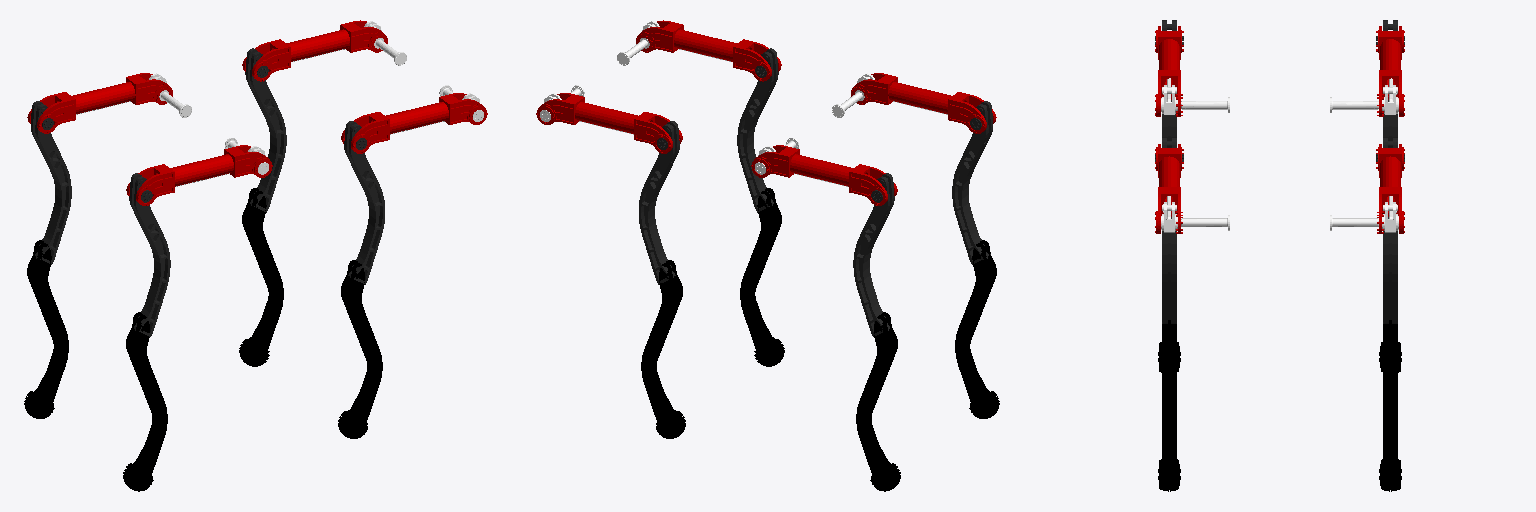
--- Render facts (derived) ---
Views: 3 orthographic renders of the robot side by side, from view 1: azimuth 30°, elevation 25°; view 2: azimuth 150°, elevation 25°; view 3: azimuth 270°, elevation 25°.
Model aidin8 with 25 links and 24 joints (12 revolute, 12 fixed), rooted at body, posed all joints at 0.
Visible links, largest first — view 1: LB_foot, RF_foot, RB_foot, LF_foot, RF_2, RB_2, LF_2, LB_2, RB_3, LB_3, RF_3, LF_3; view 2: LB_foot, LF_foot, RB_foot, RF_foot, LF_2, LB_2, RF_2, RB_2, LB_3, RB_3, LF_3, RF_3; view 3: RF_foot, LF_foot, LB_2, RF_2, LF_2, RB_2, RF_3, LF_3, RF_link1, LF_link1, LB_link1, RB_link1 (+2 smaller).
Boxes of the visible links, <box> form: LB_foot: <box>24,240,68,418</box>; RF_foot: <box>338,260,382,438</box>; RB_foot: <box>123,312,167,491</box>; LF_foot: <box>239,188,283,366</box>; RF_2: <box>341,93,487,153</box>; RB_2: <box>126,145,272,205</box>; LF_2: <box>242,20,387,81</box>; LB_2: <box>27,73,172,133</box>; RB_3: <box>129,173,170,336</box>; LB_3: <box>31,101,71,264</box>; RF_3: <box>344,121,384,284</box>; LF_3: <box>245,48,286,212</box>; LB_foot: <box>856,312,900,491</box>; LF_foot: <box>641,260,685,438</box>; RB_foot: <box>955,240,999,418</box>; RF_foot: <box>740,188,784,366</box>; LF_2: <box>536,93,682,153</box>; LB_2: <box>751,145,897,205</box>; RF_2: <box>636,20,781,81</box>; RB_2: <box>851,73,996,133</box>; LB_3: <box>853,173,894,336</box>; RB_3: <box>952,101,992,264</box>; LF_3: <box>639,121,679,284</box>; RF_3: <box>737,48,778,212</box>; RF_foot: <box>1158,324,1180,491</box>; LF_foot: <box>1379,324,1401,491</box>; LB_2: <box>1376,26,1404,116</box>; RF_2: <box>1155,144,1183,233</box>; LF_2: <box>1376,144,1404,233</box>; RB_2: <box>1155,26,1183,116</box>; RF_3: <box>1155,138,1183,323</box>; LF_3: <box>1376,138,1404,323</box>; RF_link1: <box>1161,202,1229,232</box>; LF_link1: <box>1330,202,1398,232</box>; LB_link1: <box>1330,85,1398,114</box>; RB_link1: <box>1161,85,1229,114</box>.
Bounding box of the posed robot: 1.07 × 0.5794 × 0.9021 m (x, y, z).
Meshes: 12 distinct files referenced, 20 mesh visuals loaded (7 binary STL); not drawn: 5 (reference not matched to a file when rendering).

The robot description file, URDF, robot "aidin8":
<?xml version="1.0" ?>
<robot name="aidin8">
  <material name="black">
    <color rgba="0.0 0.0 0.0 1.0"/>
  </material>
  <material name="blue">
    <color rgba="0.0 0.0 0.8 1.0"/>
  </material>
  <material name="green">
    <color rgba="0.0 0.8 0.0 1.0"/>
  </material>
  <material name="grey">
    <color rgba="0.2 0.2 0.2 1.0"/>
  </material>
  <material name="silver">
    <color rgba="0.913725490196 0.913725490196 0.847058823529 1.0"/>
  </material>
  <material name="orange">
    <color rgba="1.0 0.423529411765 0.0392156862745 1.0"/>
  </material>
  <material name="brown">
    <color rgba="0.870588235294 0.811764705882 0.764705882353 1.0"/>
  </material>
  <material name="red">
    <color rgba="0.8 0.0 0.0 1.0"/>
  </material>
  <material name="yellow">
    <color rgba="0.8 0.8 0.0 1.0"/>
  </material>
  <material name="white">
    <color rgba="1.0 1.0 1.0 1.0"/>
  </material>

<!--////////////////////////////////   Body    ////////////////////////////////-->
  <link name="body">
    <inertial>
      <mass value="12.3188555"/>
      <origin xyz="0.00142 -0.00222 -0.04319" rpy="0 0 0"/>
      <inertia ixx="0.1104557116459" ixy="0.0002742627834" ixz="-0.0007826805716" iyy="0.2925866863396" iyz="-0.0018014327089" izz="0.3259809298915"/>
    </inertial>
    <collision name="body_1">
      <origin xyz="0.4174 0     0" rpy="0 0 0"/>
      <geometry>
        <box size="0.026 0.318 0.207"/>
      </geometry>
    </collision>
    <collision name="body_2">
      <origin xyz="-0.4174  0      0" rpy="0 0 0"/>
      <geometry>
        <box size="0.026 0.318 0.207"/>
      </geometry>
    </collision>
    <collision name="body_3">
      <origin xyz="0    0.119 0.085" rpy="0      1.57079 0"/>
      <geometry>
        <cylinder radius="0.0102" length="0.8848"/>
      </geometry>
    </collision>
    <collision name="body_4">
      <origin xyz="0     0.119 -0.085" rpy="0      1.57079 0"/>
      <geometry>
        <cylinder radius="0.0102" length="0.8848"/>
      </geometry>
    </collision>
    <collision name="body_5">
      <origin xyz="0    -0.119  0.085" rpy="0      1.57079 0"/>
      <geometry>
        <cylinder radius="0.0102" length="0.8848"/>
      </geometry>
    </collision>
    <collision name="body_6">
      <origin xyz="0    -0.119 -0.085" rpy="0      1.57079 0"/>
      <geometry>
        <cylinder radius="0.0102" length="0.8848"/>
      </geometry>
    </collision>
    <collision name="body_7" >
      <origin xyz="0 0 0" rpy="0 0 0"/>
      <geometry>
        <mesh filename="../meshes/meshes_surface/Body_AIDIN8.STL" scale="1 1 1"/>
      </geometry>
    </collision>
    <visual name="body_visual">
      <origin xyz="0 0 0" rpy="0 0 0"/>
      <geometry>
        <mesh filename="../meshes/meshes_surface/Body_AIDIN8.STL" scale="1 1 1"/>
      </geometry>
      <material name="silver"/>
    </visual>
  </link>

<!--//////////////////////////////// RF LINKS /////////////////////////////////-->

  <link name="RF_1">
    <inertial>
      <mass value="6.3549628"/>
      <origin xyz="2.22e-03 -7.00e-05 -3.49e-02" rpy="0 0 0"/>
      <inertia ixx="0.0268838092963" ixy="-0.0000090031909" ixz="0.0010319405579" iyy="0.0388589753376" iyz="0.0000168509340" izz="0.0189992476926"/>
    </inertial>
    <collision name="RF_col1">
      <origin xyz="0      0     -0.0507" rpy="0 0 0"/>
      <geometry>
        <cylinder radius="0.0535" length="0.2334"/>
      </geometry>
    </collision>
    <collision name="RF_col2">
      <origin xyz="0.0083 0     0" rpy="0      1.57079 0"/>
      <geometry>
        <cylinder radius="0.0535" length="0.1984"/>
      </geometry>
    </collision>
    <visual name="RF_1_vis">
      <origin xyz="0 0 0" rpy="0 0 0"/>
      <geometry>
        <mesh filename="../meshes/meshes_surface/Leg_Scapular_RF_stp_v2.STL" scale="1 1 1"/>
      </geometry>
      <material name="black"/>
    </visual>
  </link>

  <link name="RF_2">
    <inertial>
      <mass value="0.8592967"/>
      <origin xyz="1.75316e-01 -1.49727e-02 1.2510e-04" rpy="0 0 0"/>
      <inertia ixx="0.0007326198866" ixy="0.0000038940144" ixz="-0.0000188175364" iyy="0.0157450190455" iyz="0.0000015777233" izz="0.0157308802469"/>
    </inertial>
    <collision name="RF_col3">
      <origin xyz="0 0 0" rpy="0 0 0"/>
      <geometry>
        <cylinder radius="0.027" length="0.054"/>
      </geometry>
    </collision>
    <collision name="RF_col4">
      <origin xyz="0.055 -0.021  0" rpy="0 0 0"/>
      <geometry>
        <box size="0.06 0.06 0.054"/>
      </geometry>
    </collision>
    <collision name="RF_col5">
      <origin xyz="0.175 -0.021  0" rpy="0      1.57079 0"/>
      <geometry>
        <cylinder radius="0.025" length="0.18"/>
      </geometry>
    </collision>
    <collision name="RF_col6">
      <origin xyz="0.295 -0.021  0" rpy="0 0 0"/>
      <geometry>
        <box size="0.06 0.06 0.054"/>
      </geometry>
    </collision>
    <collision name="RF_col7">
      <origin xyz="0.35   0     0.0245" rpy="0 0 0"/>
      <geometry>
        <cylinder radius="0.027" length="0.011"/>
      </geometry>
    </collision>
    <collision name="RF_col8">
      <origin xyz="0.35    0     -0.0245" rpy="0 0 0"/>
      <geometry>
        <cylinder radius="0.027" length="0.011"/>
      </geometry>
    </collision>
    <visual name="RF_2_vis">
      <origin xyz="0 0 0" rpy="0 0 0"/>
      <geometry>
        <mesh filename="../meshes/meshes_surface/Leg_Hip_right_stp.STL" scale="1 1 1"/>
      </geometry>
      <material name="red"/>
    </visual>
  </link>

  <link name="RF_3">
    <inertial>
      <mass value="1.0898094"/>
      <origin xyz="0.1800139 0.0211379 0" rpy="0 0 0"/>
      <inertia ixx="0.0011170724779" ixy="0.0013927896194" ixz="-0.0000000006471" iyy="0.028702148538" iyz="-0.0000000000318" izz="0.0294755353979"/>
    </inertial>
    <collision name="RF_col9">
      <origin rpy="0       0       0.41887" xyz="0.10075  0.02555  0"/>
      <geometry>
        <box size="0.17 0.035 0.036"/>
      </geometry>
    </collision>
    <collision name="RF_col10">
      <origin rpy="0       0       0.05925" xyz="0.21091  0.0609   0"/>
      <geometry>
        <box size="0.0771692 0.035 0.036"/>
      </geometry>
    </collision>
    <collision name="RF_col11">
      <origin rpy="0       0      -0.34906" xyz="0.32234  0.03518  0"/>
      <geometry>
        <box size="0.17 0.035 0.036"/>
      </geometry>
    </collision>
<!--    <collision name="RF_col9">-->
<!--      <origin rpy="0  0  0" xyz="0  0  0"/>-->
<!--      <geometry>-->
<!--        <mesh filename="../meshes/meshes_surface/Leg_Knee_stp.STL" scale="1 1 1"/>-->
<!--      </geometry>-->
<!--    </collision>-->
    <visual name="RF_3_vis">
      <origin xyz="0 0 0" rpy="0 0 0"/>
      <geometry>
        <mesh filename="../meshes/meshes_surface/Leg_Knee_stp.STL" scale="1 1 1"/>
      </geometry>
      <material name="grey"/>
    </visual>
  </link>

  <link name="RF_link1">
    <inertial>
      <mass value="0.356529"/>
      <origin xyz="0.00726 -0.00049 -0.03152" rpy="0 0 0"/>
      <inertia ixx="0.0009737671712" ixy="0.0000021895727" ixz="0.0000821138402" iyy="0.0010410742162" iyz="-0.0000057093198" izz="0.0001183464867"/>
    </inertial>
    <visual name="RF_link1_vis">
      <origin xyz="0 0 0" rpy="0 0 0"/>
      <geometry>
        <mesh filename="../meshes/meshes_surface/Knee_link1_right_stp.STL" scale="1 1 1"/>
      </geometry>
      <material name="white"/>
    </visual>
  </link>

  <link name="RF_link2">
    <inertial>
      <mass value="0.20931"/>
      <origin xyz="0.175 0    0" rpy="0 0 0"/>
      <inertia ixx="0.00000747991" ixy="0" ixz="0" iyy="0.00238918720" iyz="0" izz="0.00239407889"/>
    </inertial>
    <visual name="RF_link2_vis">
      <origin xyz="0    0    0" rpy="0    0    0"/>
      <geometry>
        <mesh filename="../meshes/meshes_surface/Knee_link2_stp.STL" scale="1 1 1"/>
      </geometry>
      <material name="white"/>
    </visual>
  </link>

  <link name="RF_foot">
    <inertial>
      <mass value="0.01415138"/>
      <inertia ixx="0.0000730244206" ixy="0.0000118580755" ixz="-0.000000000074" iyy="0.000072839443" iyz="-0.0000000000768" izz="0.0000859159859"/>
    </inertial>
    <collision name="RF_col12">
      <origin rpy="0  0  0" xyz="0  0   0"/>
      <geometry>
        <sphere radius="0.025" />
      </geometry>
<!--      <geometry>-->
<!--        <mesh filename="../meshes/meshes_surface/leg_foot.STL" scale="1 1 1"/>-->
<!--      </geometry>-->
    </collision>
    <visual name="RF_foot_vis">
      <origin rpy="0  0  0" xyz="0  0   0"/>
      <geometry>
        <mesh filename="../meshes/meshes_surface/leg_foot.STL" scale="1 1 1"/>
      </geometry>
      <material name="black"/>
    </visual>
  </link>

<!--//////////////////////////////// RF JOINTS ////////////////////////////////-->

  <joint name="RFJ1" type="revolute">
    <parent link="body"/>
    <child link="RF_1"/>
    <origin xyz="0.3224 -0.119   0" rpy="-1.57079  0      -1.57079"/>
    <axis xyz="0 0 1"/>
<!--    <limit lower="-0.6981317008" upper="0.6981317008" effort="200.0" velocity="15.5"/>-->
    <limit lower="-0.3" upper="0.3" effort="200.0" velocity="15.5"/>
  </joint>

  <joint name="RFJ2" type="revolute">
    <parent link="RF_1"/>
    <child link="RF_2"/>
    <origin xyz="0.13769 0      0" rpy="-1.58259  1.57079 -1.58259"/>
    <axis xyz="0 0 1"/>
    <limit lower="-3.1" upper="3.1" effort="200.0" velocity="15.5"/>
  </joint>

  <joint name="RFJ3" type="revolute">
    <parent link="RF_2"/>
    <child link="RF_3"/>
    <origin xyz="0.35 0   0" rpy="0      0      1.57079"/>
    <axis xyz="0 0 1"/>
<!--    <limit lower="-1.047197551" upper="1.570796327" effort="200.0" velocity="15.5"/>-->
    <limit lower="-1.04" upper="1.1" effort="200.0" velocity="15.5"/>
  </joint>

  <joint name="RFJ_link1" type="fixed"> <!--revolute -> fixed-->
    <parent link="RF_1"/>
    <child link="RF_link1"/>
    <origin xyz="0.13769 0      0" rpy="-1.57079  0.17453 -1.57079"/>
    <axis xyz="0 0 1"/>
  </joint>

  <joint name="RFJ_link2" type="fixed"> <!--revolute -> fixed-->
    <parent link="RF_2"/>
    <child link="RF_link2"/>
    <origin xyz="0    0    0" rpy="0    0    0"/>
    <axis xyz="0 0 1"/>
  </joint>

  <joint name="RFJ_foot" type="fixed" dont_collapse="true"> <!--revolute -> fixed-->
    <parent link="RF_3"/>
    <child link="RF_foot"/>
    <origin rpy="0 0 0" xyz="0.4 0 0"/>
    <axis xyz="0 0 1"/>
  </joint>

<!--//////////////////////////////// LF LINKS /////////////////////////////////-->

  <link name="LF_1">
    <inertial>
      <mass value="6.3549628"/>
      <origin xyz="0.00223 -0.00011 -0.03491" rpy="0 0 0"/>
      <inertia ixx="0.0268822823205" ixy="0.0000315138420" ixz="-0.0010398645982" iyy="0.0388571979436" iyz="-0.0000013704590" izz="0.01899889911081"/>
    </inertial>
    <collision name="LF_col1">
      <origin xyz="0      0     -0.0507" rpy="0 0 0"/>
      <geometry>
        <cylinder radius="0.0535" length="0.2334"/>
      </geometry>
    </collision>
    <collision name="LF_col2">
      <origin xyz="0.0083 0     0" rpy="0      1.57079 0"/>
      <geometry>
        <cylinder radius="0.0535" length="0.1984"/>
      </geometry>
    </collision>
    <visual name="LF_1_vis">
      <origin xyz="0 0 0" rpy="0 0 0"/>
      <geometry>
        <mesh filename="../meshes/meshes_surface/Leg_Scapular_LF_stp_v2.STL" scale="1 1 1"/>
      </geometry>
      <material name="black"/>
    </visual>
  </link>

  <link name="LF_2">
    <inertial>
      <mass value="0.8592967"/>
      <origin xyz="1.75316e-01 -1.49727e-02 -1.2510e-04" rpy="0 0 0"/>
      <inertia ixx="0.0007326198857" ixy="0.0000038940144" ixz="0.0000188178556" iyy="0.0157450190446" iyz="-0.0000015777889" izz="0.0157308802467"/>
    </inertial>
    <collision name="LF_col3">
      <origin xyz="0 0 0" rpy="0 0 0"/>
      <geometry>
        <cylinder radius="0.027" length="0.054"/>
      </geometry>
    </collision>
    <collision name="LF_col4">
      <origin xyz="0.055 -0.021  0" rpy="0 0 0"/>
      <geometry>
        <box size="0.06 0.06 0.054"/>
      </geometry>
    </collision>
    <collision name="LF_col5">
      <origin xyz="0.175 -0.021  0" rpy="0      1.57079 0"/>
      <geometry>
        <cylinder radius="0.025" length="0.18"/>
      </geometry>
    </collision>
    <collision name="LF_col6">
      <origin xyz="0.295 -0.021  0" rpy="0 0 0"/>
      <geometry>
        <box size="0.06 0.06 0.054"/>
      </geometry>
    </collision>
    <collision name="LF_col7">
      <origin xyz="0.35   0     0.0245" rpy="0 0 0"/>
      <geometry>
        <cylinder radius="0.027" length="0.011"/>
      </geometry>
    </collision>
    <collision name="LF_col8">
      <origin xyz="0.35    0     -0.0245" rpy="0 0 0"/>
      <geometry>
        <cylinder radius="0.027" length="0.011"/>
      </geometry>
    </collision>
    <visual name="LF_2_vis">
      <origin xyz="0 0 0" rpy="0 0 0"/>
      <geometry>
        <mesh filename="../meshes/meshes_surface/Leg_Hip_left_stp.STL" scale="1 1 1"/>
      </geometry>
      <material name="red"/>
    </visual>
  </link>

  <link name="LF_3">
    <inertial>
      <mass value="1.0898094"/>
      <origin xyz="0.1800139 0.0211379 0" rpy="0 0 0"/>
      <inertia ixx="0.0011170724779" ixy="0.0013927896194" ixz="-0.0000000006471" iyy="0.028702148538" iyz="-0.0000000000318" izz="0.0294755353979"/>
    </inertial>
    <collision name="LF_col9">
      <origin rpy="0       0       0.41887" xyz="0.10075  0.02555  0"/>
      <geometry>
        <box size="0.17 0.035 0.036"/>
      </geometry>
    </collision>
    <collision name="LF_col10">
      <origin rpy="0       0       0.05925" xyz="0.21091  0.0609   0"/>
      <geometry>
        <box size="0.0771692 0.035 0.036"/>
      </geometry>
    </collision>
    <collision name="LF_col11">
      <origin rpy="0       0      -0.34906" xyz="0.32234  0.03518  0"/>
      <geometry>
        <box size="0.17 0.035 0.036"/>
      </geometry>
    </collision>
<!--    <collision name="LF_col9">-->
<!--      <origin rpy="0  0  0" xyz="0  0  0"/>-->
<!--      <geometry>-->
<!--        <mesh filename="../meshes/meshes_surface/Leg_Knee_stp.STL" scale="1 1 1"/>-->
<!--      </geometry>-->
<!--    </collision>-->
    <visual name="LF_3_vis">
      <origin xyz="0 0 0" rpy="0 0 0"/>
      <geometry>
        <mesh filename="../meshes/meshes_surface/Leg_Knee_stp.STL" scale="1 1 1"/>
      </geometry>
      <material name="grey"/>
    </visual>
  </link>

  <link name="LF_link1">
    <inertial>
      <mass value="0.356529"/>
      <origin xyz="0.00728 -0.00049  0.03154" rpy="0 0 0"/>
      <inertia ixx="0.0009733125313" ixy="0.0000022519068" ixz="-0.0000814612402" iyy="0.0010405526310" iyz="0.0000057129200" izz="0.0001182849391"/>
    </inertial>
    <visual name="LF_link1_vis">
      <origin xyz="0 0 0" rpy="0 0 0"/>
      <geometry>
        <mesh filename="../meshes/meshes_surface/Knee_link1_left_stp.STL" scale="1 1 1"/>
      </geometry>
      <material name="white"/>
    </visual>
  </link>

  <link name="LF_link2">
    <inertial>
      <mass value="0.20931"/>
      <origin xyz="0.175 0    0" rpy="0 0 0"/>
      <inertia ixx="0.00000747991" ixy="0" ixz="0" iyy="0.00238918720" iyz="0" izz="0.00239407889"/>
    </inertial>
    <visual name="LF_link2_vis">
      <origin xyz="0    0    0" rpy="0    0    0"/>
      <geometry>
        <mesh filename="../meshes/meshes_surface/Knee_link2_stp.STL" scale="1 1 1"/>
      </geometry>
      <material name="white"/>
    </visual>
  </link>

  <link name="LF_foot">
    <inertial>
      <mass value="0.01415138"/>
      <inertia ixx="0.0000730244206" ixy="0.0000118580755" ixz="-0.000000000074" iyy="0.000072839443" iyz="-0.0000000000768" izz="0.0000859159859"/>
    </inertial>
    <collision name="LF_col12">
      <origin rpy="0  0  0" xyz="0  0   0"/>
      <geometry>
        <sphere radius="0.025" />
      </geometry>
<!--      <geometry>-->
<!--        <mesh filename="../meshes/meshes_surface/leg_foot.STL" scale="1 1 1"/>-->
<!--      </geometry>-->
    </collision>
    <visual name="LF_foot_vis">
      <origin rpy="0  0  0" xyz="0  0   0"/>
      <geometry>
        <mesh filename="../meshes/meshes_surface/leg_foot.STL" scale="1 1 1"/>
      </geometry>
      <material name="black"/>
    </visual>
  </link>

<!--//////////////////////////////// LF JOINTS ////////////////////////////////-->

  <joint name="LFJ1" type="revolute">
    <parent link="body"/>
    <child link="LF_1"/>
    <origin xyz="0.3224 0.119  0" rpy="1.57079 0      1.57079"/>
    <axis xyz="0 0 1"/>
    <limit lower="-0.3" upper="0.3" effort="200.0" velocity="15.5"/>
<!--    <limit lower="-0.6981317008" upper="0.6981317008" effort="200.0" velocity="15.5"/>-->
  </joint>

  <joint name="LFJ2" type="revolute">
    <parent link="LF_1"/>
    <child link="LF_2"/>
    <origin xyz="0.13769 0      0" rpy="-1.559    1.57079  1.58259"/>
    <axis xyz="0 0 1"/>
    <limit lower="-3.1" upper="3.1" effort="200.0" velocity="15.5"/>
  </joint>

  <joint name="LFJ3" type="revolute">
    <parent link="LF_2"/>
    <child link="LF_3"/>
    <origin xyz="0.35 0   0" rpy="0      0      1.57079"/>
    <axis xyz="0 0 1"/>
<!--    <limit lower="-1.047197551" upper="1.570796327" effort="200.0" velocity="15.5"/>-->
    <limit lower="-1.04" upper="1.1" effort="200.0" velocity="15.5"/>
  </joint>

  <joint name="LFJ_link1" type="fixed"> <!--revolute -> fixed-->
    <parent link="LF_1"/>
    <child link="LF_link1"/>
    <origin xyz="0.13769 0      0" rpy="-1.57079  0.17453  1.57079"/>
    <axis xyz="0 0 1"/>
  </joint>

  <joint name="LFJ_link2" type="fixed"> <!--revolute -> fixed-->
    <parent link="LF_2"/>
    <child link="LF_link2"/>
    <origin xyz="0    0    0" rpy="0    0    0"/>
    <axis xyz="0 0 1"/>
  </joint>

  <joint name="LFJ_foot" type="fixed" dont_collapse="true"> <!--revolute -> fixed-->
    <origin rpy="0 0 0" xyz="0.4 0 0"/>
    <parent link="LF_3"/>
    <child link="LF_foot"/>
  </joint>

<!--//////////////////////////////// LB LINKS /////////////////////////////////-->

  <link name="LB_1">
    <inertial>
      <mass value="6.3549628"/>
      <origin xyz="2.22e-03 -7.00e-05  3.49e-02" rpy="0 0 0"/>
      <inertia ixx="0.0268838092963" ixy="0.0000090031909" ixz="-0.0010319405579" iyy="0.0388589753376" iyz="0.0000168509340" izz="0.0189992476926"/>
    </inertial>
    <collision name="LB_col1">
      <origin xyz="0     0     0.0507" rpy="0 0 0"/>
      <geometry>
        <cylinder radius="0.0535" length="0.2334"/>
      </geometry>
    </collision>
    <collision name="LB_col2">
      <origin xyz="0.0083 0     0" rpy="0      1.57079 0"/>
      <geometry>
        <cylinder radius="0.0535" length="0.1984"/>
      </geometry>
    </collision>
    <visual name="LB_1_vis">
      <origin xyz="0 0 0" rpy="0 0 0"/>
      <geometry>
        <mesh filename="../meshes/meshes_surface/Leg_Scapular_LR_stp_v2.STL" scale="1 1 1"/>
      </geometry>
      <material name="black"/>
    </visual>
  </link>

  <link name="LB_2">
    <inertial>
      <mass value="0.8592967"/>
      <origin xyz="1.75316e-01 -1.49727e-02 -1.2510e-04" rpy="0 0 0"/>
      <inertia ixx="0.0007326198857" ixy="0.0000038940144" ixz="0.0000188178556" iyy="0.0157450190446" iyz="-0.0000015777889" izz="0.0157308802467"/>
    </inertial>
    <collision name="LB_col3">
      <origin xyz="0 0 0" rpy="0 0 0"/>
      <geometry>
        <cylinder radius="0.027" length="0.054"/>
      </geometry>
    </collision>
    <collision name="LB_col4">
      <origin xyz="0.055 -0.021  0" rpy="0 0 0"/>
      <geometry>
        <box size="0.06 0.06 0.054"/>
      </geometry>
    </collision>
    <collision name="LB_col5">
      <origin xyz="0.175 -0.021  0" rpy="0      1.57079 0"/>
      <geometry>
        <cylinder radius="0.025" length="0.18"/>
      </geometry>
    </collision>
    <collision name="LB_col6">
      <origin xyz="0.295 -0.021  0" rpy="0 0 0"/>
      <geometry>
        <box size="0.06 0.06 0.054"/>
      </geometry>
    </collision>
    <collision name="LB_col7">
      <origin xyz="0.35   0     0.0245" rpy="0 0 0"/>
      <geometry>
        <cylinder radius="0.027" length="0.011"/>
      </geometry>
    </collision>
    <collision name="LB_col8">
      <origin xyz="0.35    0     -0.0245" rpy="0 0 0"/>
      <geometry>
        <cylinder radius="0.027" length="0.011"/>
      </geometry>
    </collision>
    <visual name="LB_2_vis">
      <origin xyz="0 0 0" rpy="0 0 0"/>
      <geometry>
        <mesh filename="../meshes/meshes_surface/Leg_Hip_left_stp.STL" scale="1 1 1"/>
      </geometry>
      <material name="red"/>
    </visual>
  </link>

  <link name="LB_3">
    <inertial>
      <mass value="1.0898094"/>
      <origin xyz="0.1800139 0.0211379 0" rpy="0 0 0"/>
      <inertia ixx="0.0011170724779" ixy="0.0013927896194" ixz="-0.0000000006471" iyy="0.028702148538" iyz="-0.0000000000318" izz="0.0294755353979"/>
    </inertial>
    <collision name="RB_col9">
      <origin rpy="0       0       0.41887" xyz="0.10075  0.02555  0"/>
      <geometry>
        <box size="0.17 0.035 0.036"/>
      </geometry>
    </collision>
    <collision name="RB_col10">
      <origin rpy="0       0       0.05925" xyz="0.21091  0.0609   0"/>
      <geometry>
        <box size="0.0771692 0.035 0.036"/>
      </geometry>
    </collision>
    <collision name="RB_col11">
      <origin rpy="0       0      -0.34906" xyz="0.32234  0.03518  0"/>
      <geometry>
        <box size="0.17 0.035 0.036"/>
      </geometry>
    </collision>
<!--    <collision name="LB_col9">-->
<!--      <origin rpy="0  0  0" xyz="0  0  0"/>-->
<!--        <geometry>-->
<!--          <mesh filename="../meshes/meshes_surface/Leg_Knee_stp.STL" scale="1 1 1"/>-->
<!--        </geometry>-->
<!--    </collision>-->
    <visual name="LB_3_vis">
      <origin xyz="0 0 0" rpy="0 0 0"/>
      <geometry>
        <mesh filename="../meshes/meshes_surface/Leg_Knee_stp.STL" scale="1 1 1"/>
      </geometry>
      <material name="grey"/>
    </visual>
  </link>

  <link name="LB_link1">
    <inertial>
      <mass value="0.356529"/>
      <origin xyz="0.00728 -0.00049  0.03154" rpy="0 0 0"/>
      <inertia ixx="0.0009733125313" ixy="0.0000022519068" ixz="-0.0000814612402" iyy="0.0010405526310" iyz="0.0000057129200" izz="0.0001182849391"/>
    </inertial>
    <visual name="LB_link1_vis">
      <origin xyz="0 0 0" rpy="0 0 0"/>
      <geometry>
        <mesh filename="../meshes/meshes_surface/Knee_link1_left_stp.STL" scale="1 1 1"/>
      </geometry>
      <material name="white"/>
    </visual>
  </link>

  <link name="LB_link2">
    <inertial>
      <mass value="0.20931"/>
      <origin xyz="0.175 0    0" rpy="0 0 0"/>
      <inertia ixx="0.00000747991" ixy="0" ixz="0" iyy="0.00238918720" iyz="0" izz="0.00239407889"/>
    </inertial>
    <visual name="LB_link2_vis">
      <origin xyz="0    0    0" rpy="0    0    0"/>
      <geometry>
        <mesh filename="../meshes/meshes_surface/Knee_link2_stp.STL" scale="1 1 1"/>
      </geometry>
      <material name="white"/>
    </visual>
  </link>

  <link name="LB_foot">
    <inertial>
      <mass value="0.01415138"/>
      <inertia ixx="0.0000730244206" ixy="0.0000118580755" ixz="-0.000000000074" iyy="0.000072839443" iyz="-0.0000000000768" izz="0.0000859159859"/>
    </inertial>
    <collision name="LB_col12">
      <origin rpy="0  0  0" xyz="0  0   0"/>
      <geometry>
        <sphere radius="0.025" />
      </geometry>
<!--      <geometry>-->
<!--        <mesh filename="../meshes/meshes_surface/leg_foot.STL" scale="1 1 1"/>-->
<!--      </geometry>-->
    </collision>
    <visual name="LB_foot_vis">
      <origin rpy="0  0  0" xyz="0  0   0"/>
      <geometry>
        <mesh filename="../meshes/meshes_surface/leg_foot.STL" scale="1 1 1"/>
      </geometry>
      <material name="black"/>
    </visual>
  </link>

<!--//////////////////////////////// LB JOINTS ////////////////////////////////-->

  <joint name="LBJ1" type="revolute">
    <parent link="body"/>
    <child link="LB_1"/>
    <origin xyz="-0.3224  0.119   0" rpy="1.57079 0      1.57079"/>
    <axis xyz="0 0 1"/>
    <limit lower="-0.3" upper="0.3" effort="200.0" velocity="15.5"/>
<!--    <limit lower="-0.6981317008" upper="0.6981317008" effort="200.0" velocity="15.5"/>-->
  </joint>

  <joint name="LBJ2" type="revolute">
    <parent link="LB_1"/>
    <child link="LB_2"/>
    <origin xyz="0.13769 0      0" rpy="-1.559    1.57079  1.58259"/>
    <axis xyz="0 0 1"/>
    <limit lower="-3.1" upper="3.1" effort="200.0" velocity="15.5"/>
  </joint>

  <joint name="LBJ3" type="revolute">
    <parent link="LB_2"/>
    <child link="LB_3"/>
    <origin xyz="0.35 0   0" rpy="0      0      1.57079"/>
    <axis xyz="0 0 1"/>
<!--    <limit lower="-1.047197551" upper="1.570796327" effort="200.0" velocity="15.5"/>-->
    <limit lower="-1.04" upper="1.1" effort="200.0" velocity="15.5"/>
  </joint>

  <joint name="LBJ_link1" type="fixed"> <!--revolute -> fixed-->
    <parent link="LB_1"/>
    <child link="LB_link1"/>
    <origin xyz="0.13769 0      0" rpy="-1.57079  0.17453  1.57079"/>
    <axis xyz="0 0 1"/>
  </joint>

  <joint name="LBJ_link2" type="fixed"> <!--revolute -> fixed-->
    <parent link="LB_2"/>
    <child link="LB_link2"/>
    <origin xyz="0    0    0" rpy="0    0    0"/>
    <axis xyz="0 0 1"/>
  </joint>

  <joint name="LBJ_foot" type="fixed" dont_collapse="true"> <!--revolute -> fixed-->
    <origin rpy="0 0 0" xyz="0.4 0 0"/>
    <parent link="LB_3"/>
    <child link="LB_foot"/>
    <axis xyz="0 0 1"/>
  </joint>

<!--//////////////////////////////// RB LINKS /////////////////////////////////-->

  <link name="RB_1">
    <inertial>
      <mass value="6.3549628"/>
      <origin xyz="0.00223 0.00011 0.03491" rpy="0 0 0"/>
      <inertia ixx="0.0268822823505" ixy="-0.0000315138420" ixz="-0.0010398645982" iyy="0.0388571979436" iyz="-0.0000013704590" izz="0.0189988991081"/>
    </inertial>
    <collision name="RB_col1">
      <origin xyz="0     0     0.0507" rpy="0 0 0"/>
      <geometry>
        <cylinder radius="0.0535" length="0.2334"/>
      </geometry>
    </collision>
    <collision name="RB_col2">
      <origin xyz="0.0083 0     0" rpy="0      1.57079 0"/>
      <geometry>
        <cylinder radius="0.0535" length="0.1984"/>
      </geometry>
    </collision>
    <visual name="RB_1_vis">
      <origin xyz="0 0 0" rpy="0 0 0"/>
      <geometry>
        <mesh filename="../meshes/meshes_surface/Leg_Scapular_RR_stp_v2.STL" scale="1 1 1"/>
      </geometry>
      <material name="black"/>
    </visual>
  </link>

  <link name="RB_2">
    <inertial>
      <mass value="0.8592967"/>
      <origin xyz="1.75316e-01 -1.49727e-02 1.2510e-04" rpy="0 0 0"/>
      <inertia ixx="0.0007326198866" ixy="0.0000038940144" ixz="-0.0000188175364" iyy="0.0157450190455" iyz="0.0000015777233" izz="0.0157308802469"/>
    </inertial>
    <collision name="RB_col3">
      <origin xyz="0 0 0" rpy="0 0 0"/>
      <geometry>
        <cylinder radius="0.027" length="0.054"/>
      </geometry>
    </collision>
    <collision name="RB_col4">
      <origin xyz="0.055 -0.021  0" rpy="0 0 0"/>
      <geometry>
        <box size="0.06 0.06 0.054"/>
      </geometry>
    </collision>
    <collision name="RB_col5">
      <origin xyz="0.175 -0.021  0" rpy="0      1.57079 0"/>
      <geometry>
        <cylinder radius="0.025" length="0.18"/>
      </geometry>
    </collision>
    <collision name="RB_col6">
      <origin xyz="0.295 -0.021  0" rpy="0 0 0"/>
      <geometry>
        <box size="0.06 0.06 0.054"/>
      </geometry>
    </collision>
    <collision name="RB_col7">
      <origin xyz="0.35   0     0.0245" rpy="0 0 0"/>
      <geometry>
        <cylinder radius="0.027" length="0.011"/>
      </geometry>
    </collision>
    <collision name="RB_col8">
      <origin xyz="0.35    0     -0.0245" rpy="0 0 0"/>
      <geometry>
        <cylinder radius="0.027" length="0.011"/>
      </geometry>
    </collision>
    <visual name="RB_2_vis">
      <origin xyz="0 0 0" rpy="0 0 0"/>
      <geometry>
        <mesh filename="../meshes/meshes_surface/Leg_Hip_right_stp.STL" scale="1 1 1"/>
      </geometry>
      <material name="red"/>
    </visual>
  </link>

  <link name="RB_3">
    <inertial>
      <mass value="1.0898094"/>
      <origin xyz="0.1800139 0.0211379 0" rpy="0 0 0"/>
      <inertia ixx="0.0011170724779" ixy="0.0013927896194" ixz="-0.0000000006471" iyy="0.028702148538" iyz="-0.0000000000318" izz="0.0294755353979"/>
    </inertial>
    <collision name="RB_col9">
      <origin rpy="0       0       0.41887" xyz="0.10075  0.02555  0"/>
      <geometry>
        <box size="0.17 0.035 0.036"/>
      </geometry>
    </collision>
    <collision name="RB_col10">
      <origin rpy="0       0       0.05925" xyz="0.21091  0.0609   0"/>
      <geometry>
        <box size="0.0771692 0.035 0.036"/>
      </geometry>
    </collision>
    <collision name="RB_col11">
      <origin rpy="0       0      -0.34906" xyz="0.32234  0.03518  0"/>
      <geometry>
        <box size="0.17 0.035 0.036"/>
      </geometry>
    </collision>
<!--    <collision name="RB_col9">-->
<!--      <origin rpy="0  0  0" xyz="0  0  0"/>-->
<!--      <geometry>-->
<!--        <mesh filename="../meshes/meshes_surface/Leg_Knee_stp.STL" scale="1 1 1"/>-->
<!--      </geometry>-->
<!--    </collision>-->
    <visual name="RB_3_vis">
      <origin xyz="0 0 0" rpy="0 0 0"/>
      <geometry>
        <mesh filename="../meshes/meshes_surface/Leg_Knee_stp.STL" scale="1 1 1"/>
      </geometry>
      <material name="grey"/>
    </visual>
  </link>

  <link name="RB_link1">
    <inertial>
      <mass value="0.356529"/>
      <origin xyz="0.00726 -0.00049 -0.03152" rpy="0 0 0"/>
      <inertia ixx="0.0009737671712" ixy="0.0000021895727" ixz="0.0000821138402" iyy="0.0010410742162" iyz="-0.0000057093198" izz="0.0001183464867"/>
    </inertial>
    <visual name="RB_link1_vis">
      <origin xyz="0 0 0" rpy="0 0 0"/>
      <geometry>
        <mesh filename="../meshes/meshes_surface/Knee_link1_right_stp.STL" scale="1 1 1"/>
      </geometry>
      <material name="white"/>
    </visual>
  </link>

  <link name="RB_link2">
    <inertial>
      <mass value="0.20931"/>
      <origin xyz="0.175 0    0" rpy="0 0 0"/>
      <inertia ixx="0.00000747991" ixy="0" ixz="0" iyy="0.00238918720" iyz="0" izz="0.00239407889"/>
    </inertial>
    <visual name="RB_link2_vis">
      <origin xyz="0    0    0" rpy="0    0    0"/>
      <geometry>
        <mesh filename="../meshes/meshes_surface/Knee_link2_stp.STL" scale="1 1 1"/>
      </geometry>
      <material name="white"/>
    </visual>
  </link>

  <link name="RB_foot">
    <inertial>
      <mass value="0.01415138"/>
      <inertia ixx="0.0000730244206" ixy="0.0000118580755" ixz="-0.000000000074" iyy="0.000072839443" iyz="-0.0000000000768" izz="0.0000859159859"/>
    </inertial>
    <collision name="RB_col12">
      <origin rpy="0  0  0" xyz="0  0   0"/>
      <geometry>
        <sphere radius="0.025" />
      </geometry>
<!--      <geometry>-->
<!--        <mesh filename="../meshes/meshes_surface/leg_foot.STL" scale="1 1 1"/>-->
<!--      </geometry>-->
    </collision>
    <visual name="RB_foot_vis">
      <origin rpy="0  0  0" xyz="0  0   0"/>
      <geometry>
        <mesh filename="../meshes/meshes_surface/leg_foot.STL" scale="1 1 1"/>
      </geometry>
      <material name="black"/>
    </visual>
  </link>

<!--//////////////////////////////// RB JOINTS ////////////////////////////////-->

  <joint name="RBJ1" type="revolute">
    <parent link="body"/>
    <child link="RB_1"/>
    <origin xyz="-0.3224 -0.119   0" rpy="-1.57079  0      -1.57079"/>
    <axis xyz="0 0 1"/>
    <limit lower="-0.3" upper="0.3" effort="200.0" velocity="15.5"/>
<!--    <limit lower="-0.6981317008" upper="0.6981317008" effort="200.0" velocity="15.5"/>-->
  </joint>

  <joint name="RBJ2" type="revolute">
    <parent link="RB_1"/>
    <child link="RB_2"/>
    <origin xyz="0.13769 0      0" rpy="-1.58259  1.57079 -1.58259"/>
    <axis xyz="0 0 1"/>
    <limit lower="-3.1" upper="3.1" effort="200.0" velocity="15.5"/>
  </joint>

  <joint name="RBJ3" type="revolute">
    <parent link="RB_2"/>
    <child link="RB_3"/>
    <origin xyz="0.35 0   0" rpy="0      0      1.57079"/>
    <axis xyz="0 0 1"/>
<!--    <limit lower="-1.047197551" upper="1.570796327" effort="200.0" velocity="15.5"/>-->
    <limit lower="-1.04" upper="1.1" effort="200.0" velocity="15.5"/>
  </joint>

  <joint name="RBJ_link1" type="fixed"> <!--revolute -> fixed-->
    <parent link="RB_1"/>
    <child link="RB_link1"/>
    <origin xyz="0.13769 0      0" rpy="-1.57079  0.17453 -1.57079"/>
    <axis xyz="0 0 1"/>
  </joint>

  <joint name="RBJ_link2" type="fixed"> <!--revolute -> fixed-->
    <parent link="RB_2"/>
    <child link="RB_link2"/>
    <origin xyz="0    0    0" rpy="0    0    0"/>
    <axis xyz="0 0 1"/>
  </joint>

  <joint name="RBJ_foot" type="fixed" dont_collapse="true"> <!--revolute -> fixed-->
    <origin rpy="0 0 0" xyz="0.4 0 0"/>
    <parent link="RB_3"/>
    <child link="RB_foot"/>
    <axis xyz="0 0 1"/>
  </joint>

</robot>
